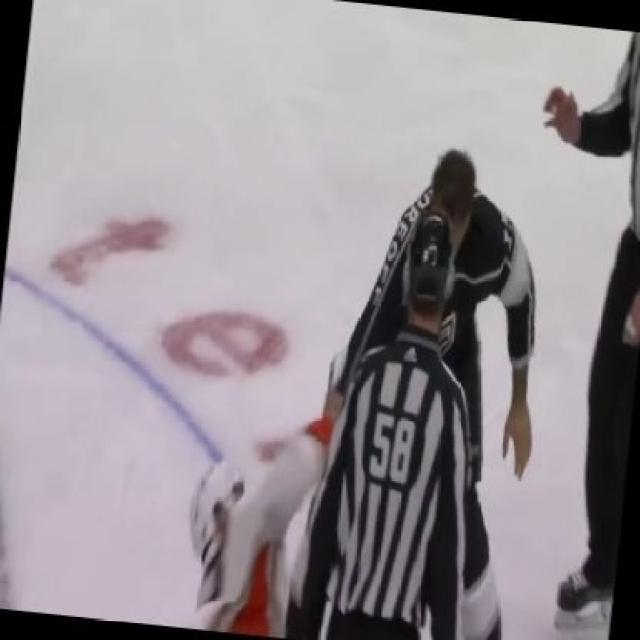fight: (185, 148, 551, 640)
non-fight: (292, 211, 465, 640)
